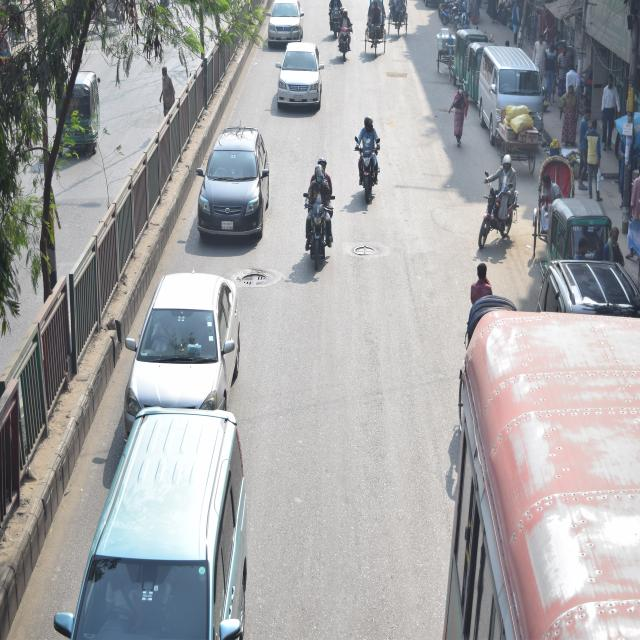bus: (437, 300, 640, 640)
car: (59, 409, 252, 640), (120, 266, 243, 414), (538, 244, 640, 336), (195, 122, 268, 248), (276, 37, 325, 107), (266, 0, 304, 44)
microbus: (478, 37, 548, 155)
motorbike: (470, 164, 519, 254), (296, 170, 336, 272), (346, 124, 384, 205), (335, 17, 354, 61), (326, 1, 344, 36), (445, 4, 470, 28)
